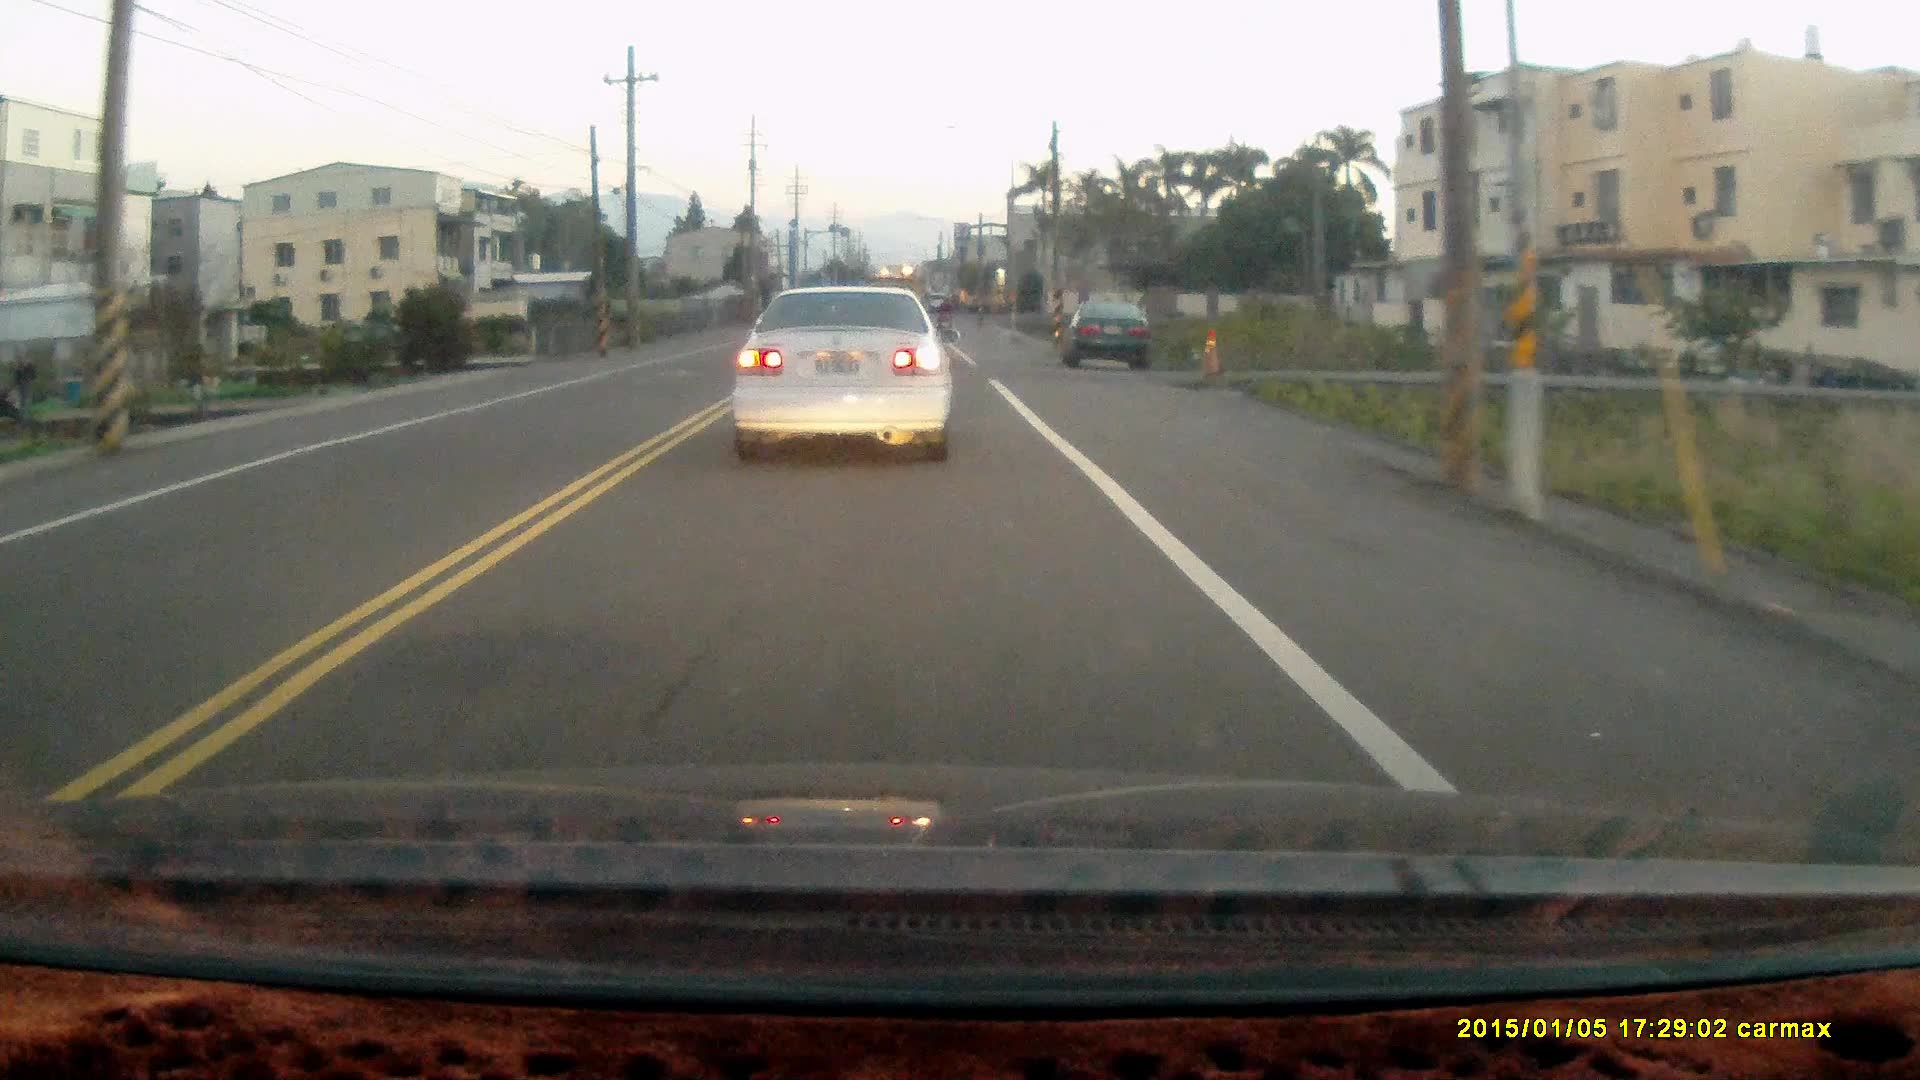pedestrian: (10, 347, 36, 413)
vehicle: (730, 279, 957, 467), (1060, 293, 1152, 366)
